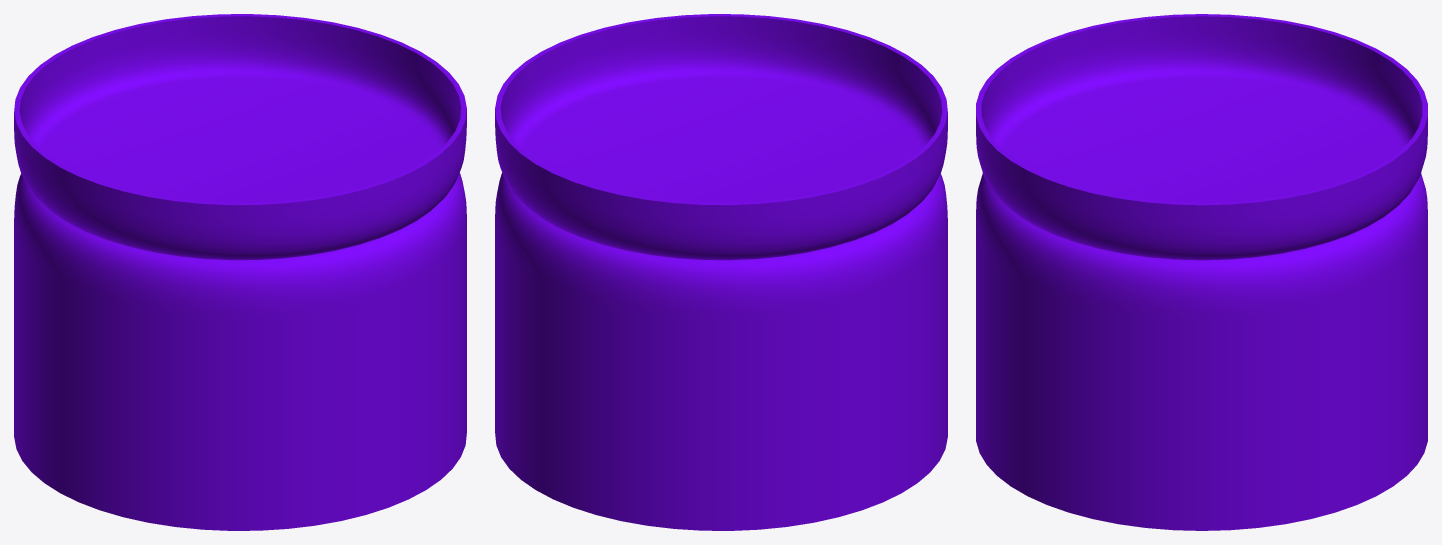
The model's file is MesaFbx.glb.
The picture shows the model from 3 angles, left to right: view 1: azimuth 30°, elevation 25°; view 2: azimuth 150°, elevation 25°; view 3: azimuth 270°, elevation 25°; orthographic projection.
Parts seen in each view (by area): view 1: Cylinder001, Object, Cylinder002; view 2: Cylinder001, Object, Cylinder002; view 3: Cylinder001, Object, Cylinder002.
Part boxes in pixels (x1=…): Cylinder001: x1=14, y1=173, x2=466, y2=530; Object: x1=19, y1=16, x2=461, y2=202; Cylinder002: x1=14, y1=14, x2=466, y2=260; Cylinder001: x1=495, y1=173, x2=947, y2=530; Object: x1=500, y1=16, x2=942, y2=202; Cylinder002: x1=495, y1=14, x2=947, y2=260; Cylinder001: x1=976, y1=173, x2=1427, y2=530; Object: x1=981, y1=16, x2=1422, y2=202; Cylinder002: x1=976, y1=14, x2=1427, y2=260.
Size of the model in its own units: 40.62 by 32.25 by 40.54.
